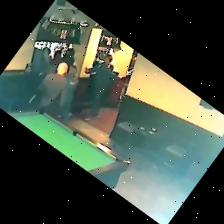person: (84, 55, 116, 120), (35, 63, 67, 113)
